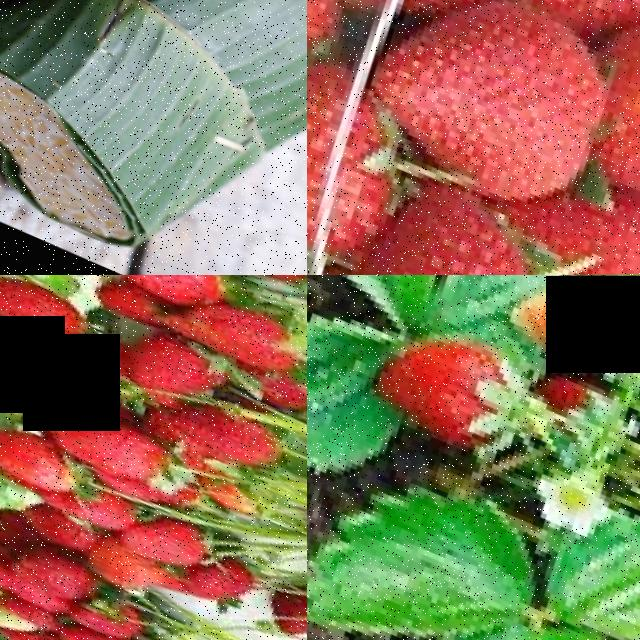strawberry: (347, 0, 633, 223), (307, 165, 596, 275), (355, 315, 540, 469), (307, 40, 405, 263), (28, 395, 175, 498), (518, 170, 640, 275), (151, 388, 285, 481), (577, 19, 640, 213), (187, 294, 305, 383), (0, 534, 98, 608), (0, 275, 92, 350), (105, 502, 198, 576), (0, 418, 76, 500), (55, 275, 217, 311)
tempeh: (0, 51, 162, 255)
